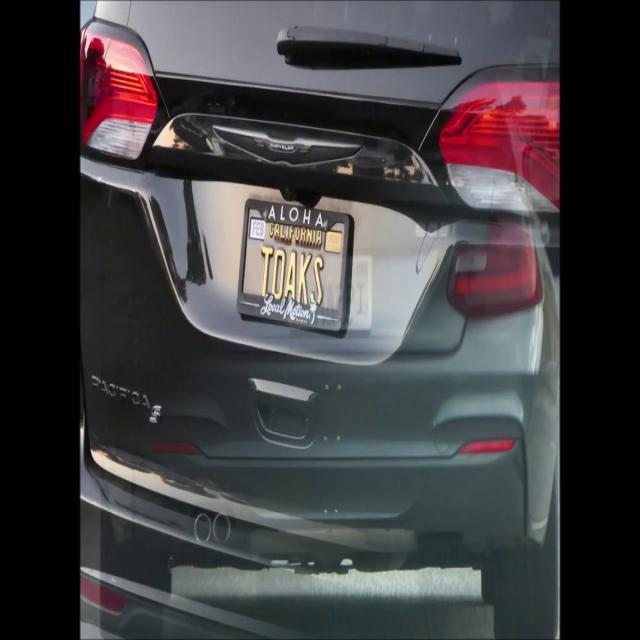License Plate: (243, 192, 344, 328)
